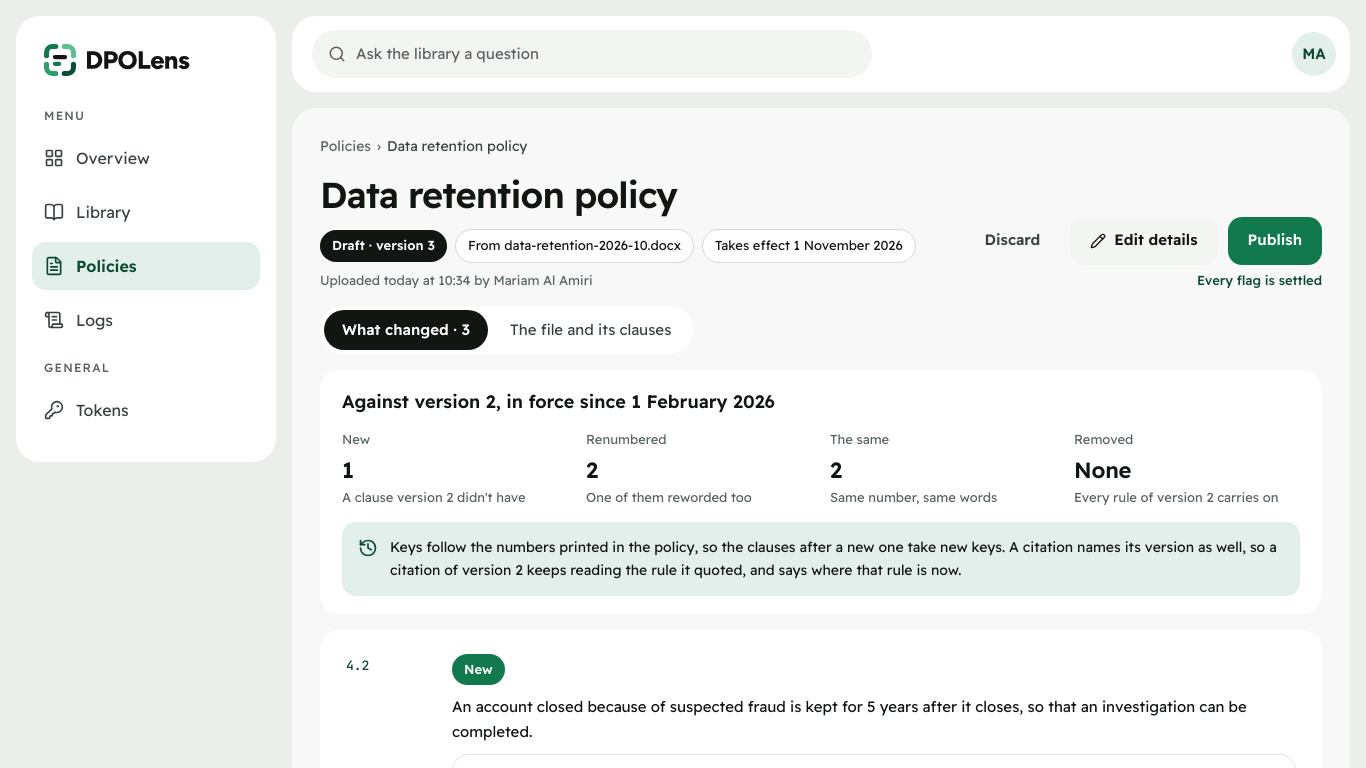
Test case: a draft under review › publishes once every flag is settled, and says so on Policies
Click the button "Publish" at (1275, 240), box 1228,216 -> 1322,264
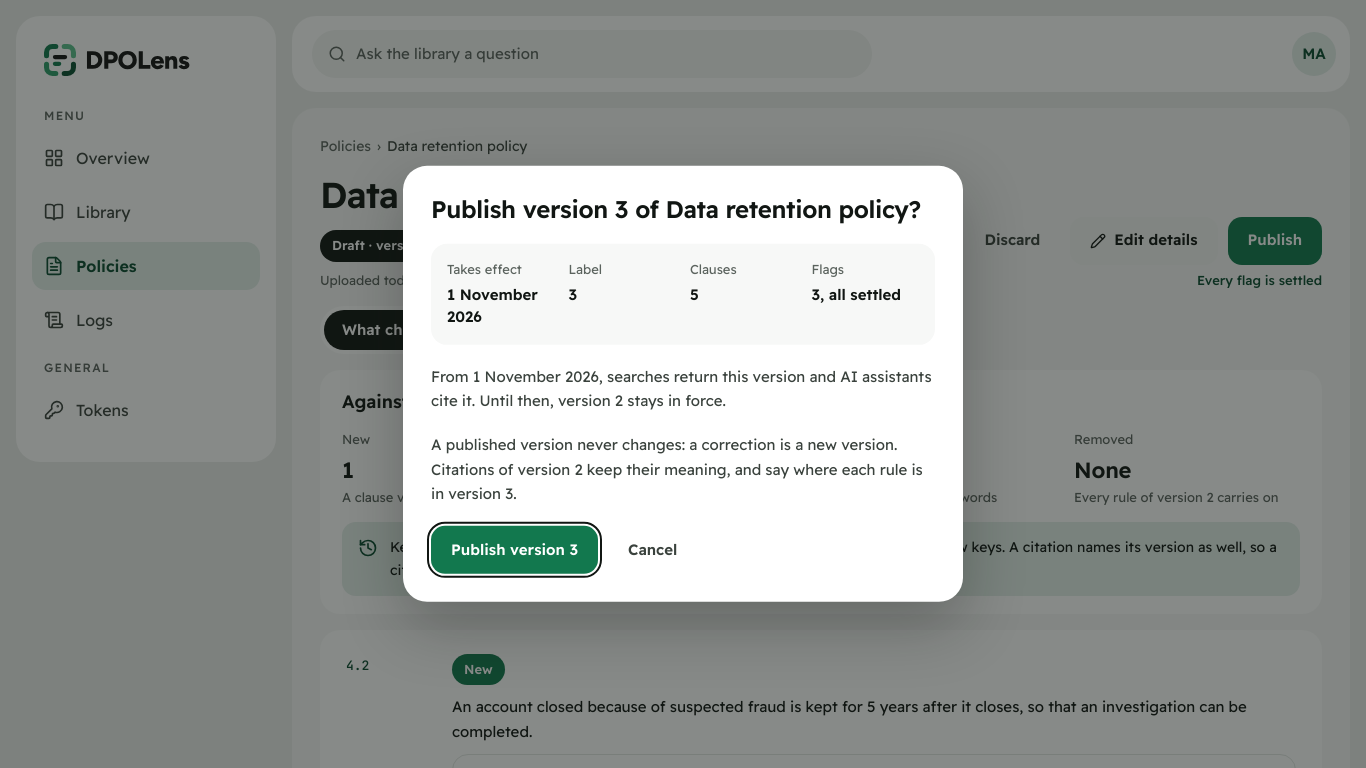
Expected: the dialog "Publish version 3 of Data retention policy?" shows "3, all settled", 812,284 -> 901,303
Expected: the dialog "Publish version 3 of Data retention policy?" shows "Until then, version 2 stays in force.", 475,391 -> 726,410
Click the button "Publish version 3" at (515, 550), box 431,526 -> 598,574
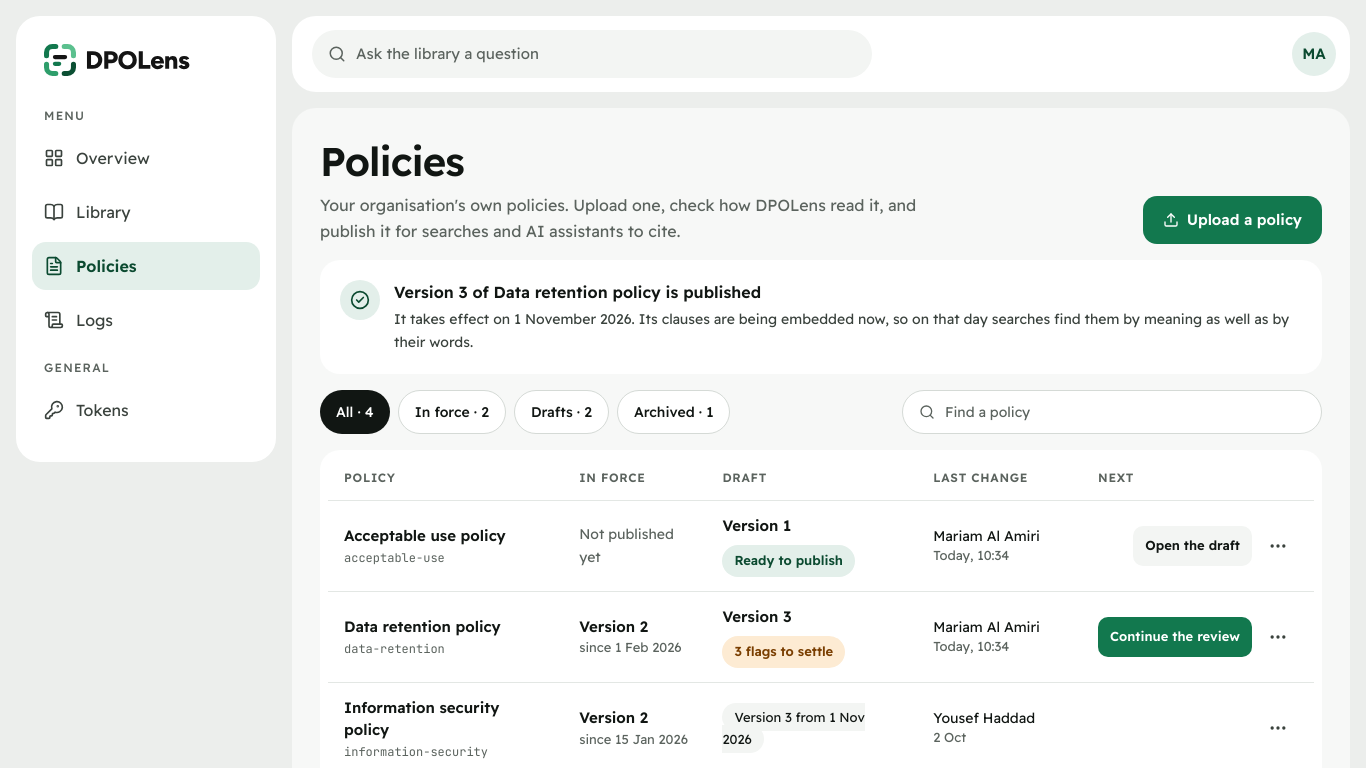
Expected: the text "Version 3 of Data retention policy is published" is shown, 394,282 -> 761,302
